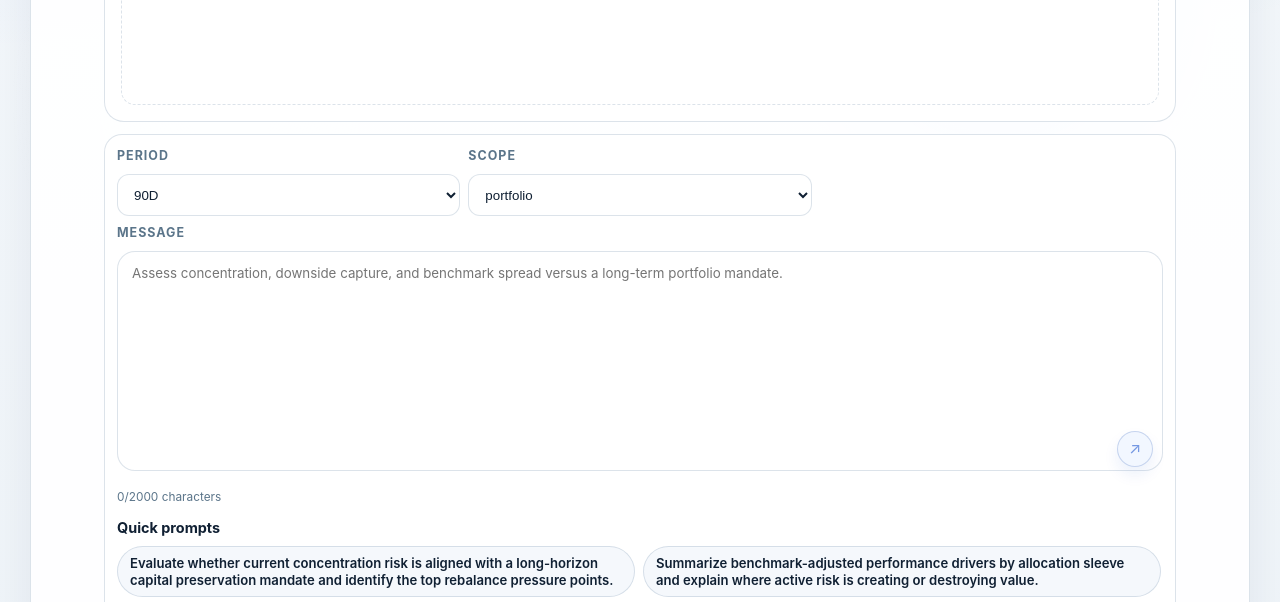
Test: PortfolioCopilotPage › renders blocked state with stable reason messaging
The width and height of the screenshot is (1280, 602).
(page scrolled)
In the text box named "Copilot user message": x=640, y=361 [117, 251, 1163, 471], type "Do this automatically for me."
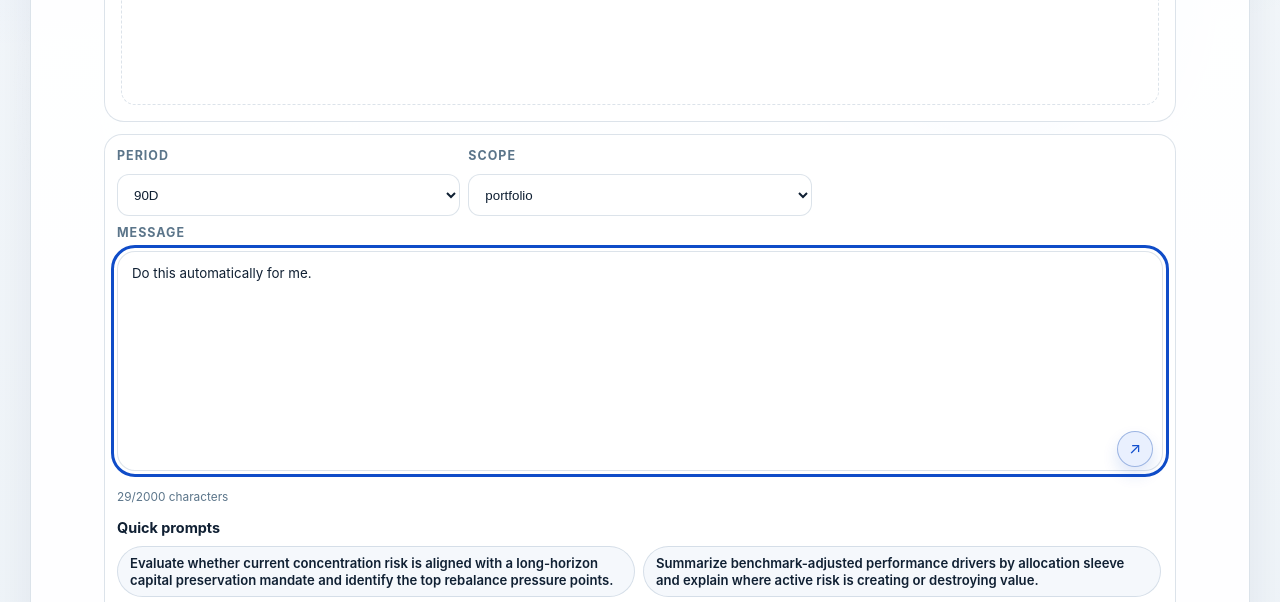
Click the button named "Submit request": x=1135, y=449 [1117, 431, 1153, 467]
(page scrolled)
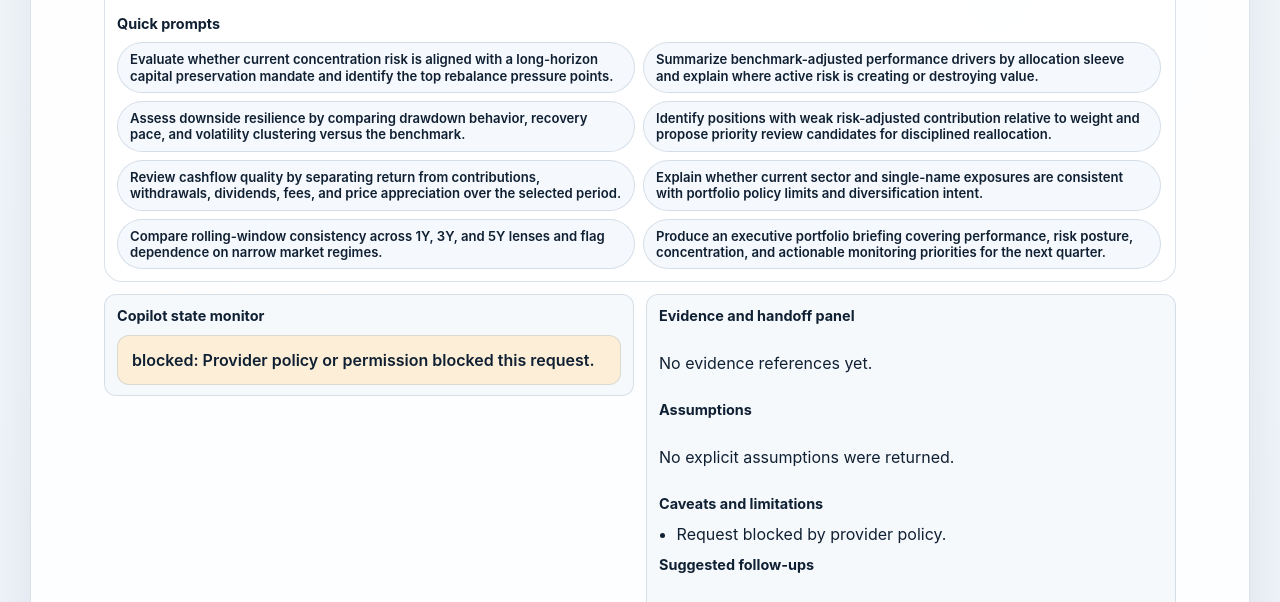
Result: the text "blocked: Provider policy or permission blocked this request." is shown at [117, 335, 621, 385]
